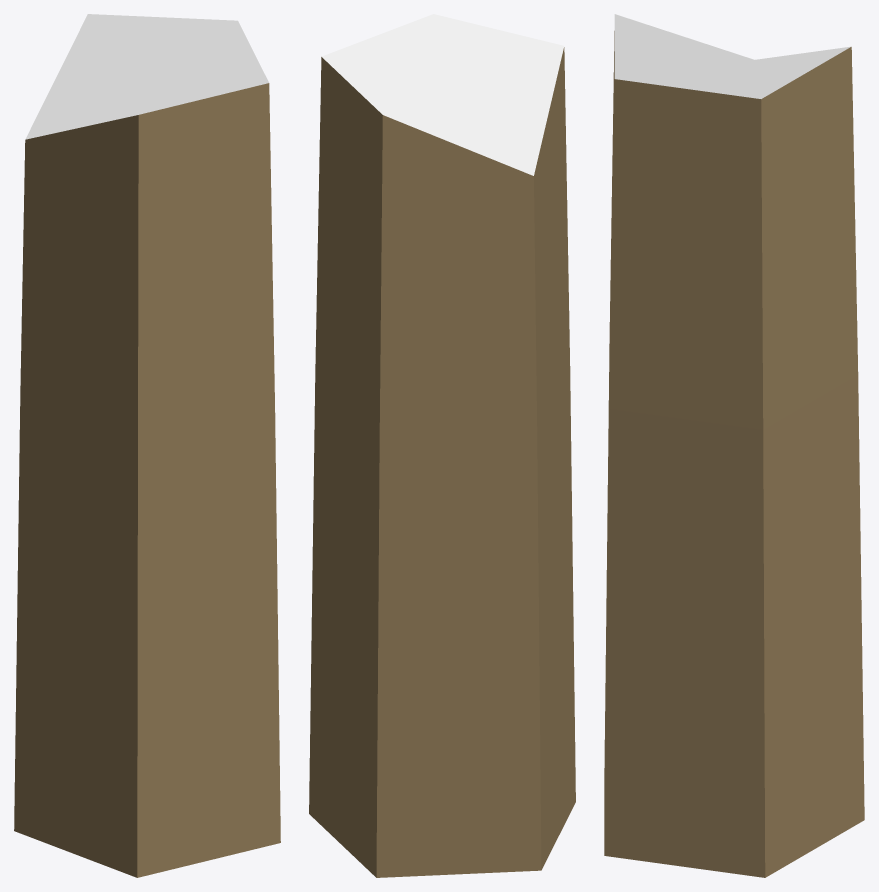
File: Thuja_Stump_Snow_01_LOD.fbx
The picture shows the model from 3 angles, left to right: view 1: azimuth 30°, elevation 25°; view 2: azimuth 150°, elevation 25°; view 3: azimuth 270°, elevation 25°; orthographic projection. The views are drawn at different scales.
Parts seen in each view (by area): view 1: Thuja_Stump_Snow_01_LOD0; view 2: Thuja_Stump_Snow_01_LOD0; view 3: Thuja_Stump_Snow_01_LOD0.
Part boxes in pixels (x1,y1,x2,y2): Thuja_Stump_Snow_01_LOD0: (14,14,280,877); Thuja_Stump_Snow_01_LOD0: (309,14,575,877); Thuja_Stump_Snow_01_LOD0: (604,14,864,877).
Size of what is drawn, in the model's own units: 21.17 by 66.02 by 20.14.
